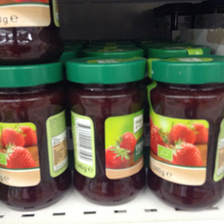jam: (64, 56, 149, 206), (146, 55, 224, 209), (1, 64, 69, 212)
